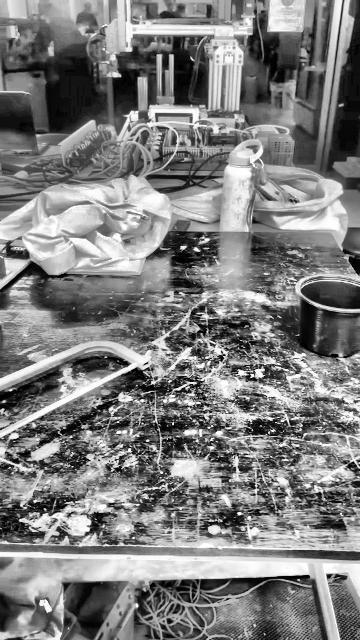pot: (295, 275, 360, 358)
